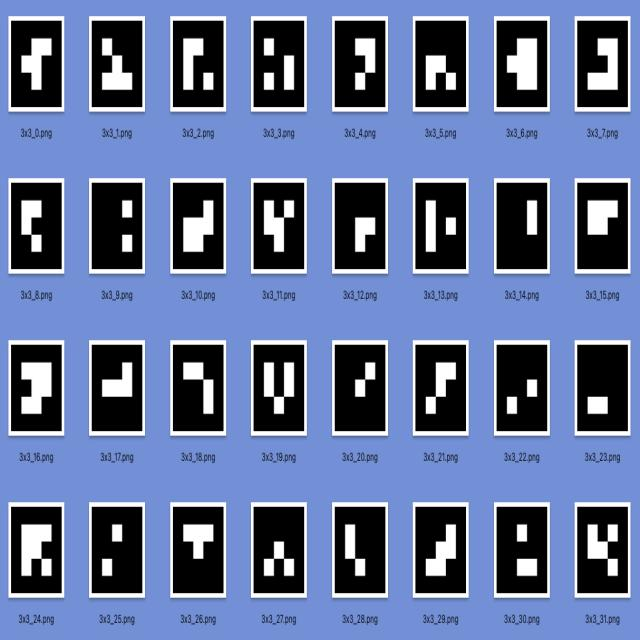aruco: (302, 305, 407, 460), (558, 316, 638, 488), (397, 306, 488, 452), (69, 312, 158, 458), (558, 135, 636, 297), (317, 483, 406, 622), (153, 312, 247, 443), (400, 173, 476, 335), (74, 152, 162, 290), (231, 158, 316, 298), (398, 0, 487, 133), (232, 1, 322, 131), (330, 0, 408, 141), (156, 482, 234, 622), (400, 476, 476, 618), (68, 491, 154, 615), (321, 150, 395, 294), (486, 0, 559, 145), (247, 315, 316, 467), (0, 317, 75, 454), (474, 491, 561, 609), (491, 309, 558, 456), (162, 14, 234, 150), (157, 169, 243, 277), (85, 5, 158, 125), (5, 1, 70, 134), (3, 153, 66, 287), (565, 479, 632, 604), (490, 158, 550, 292), (247, 499, 314, 618), (0, 488, 63, 610), (574, 1, 640, 112)
